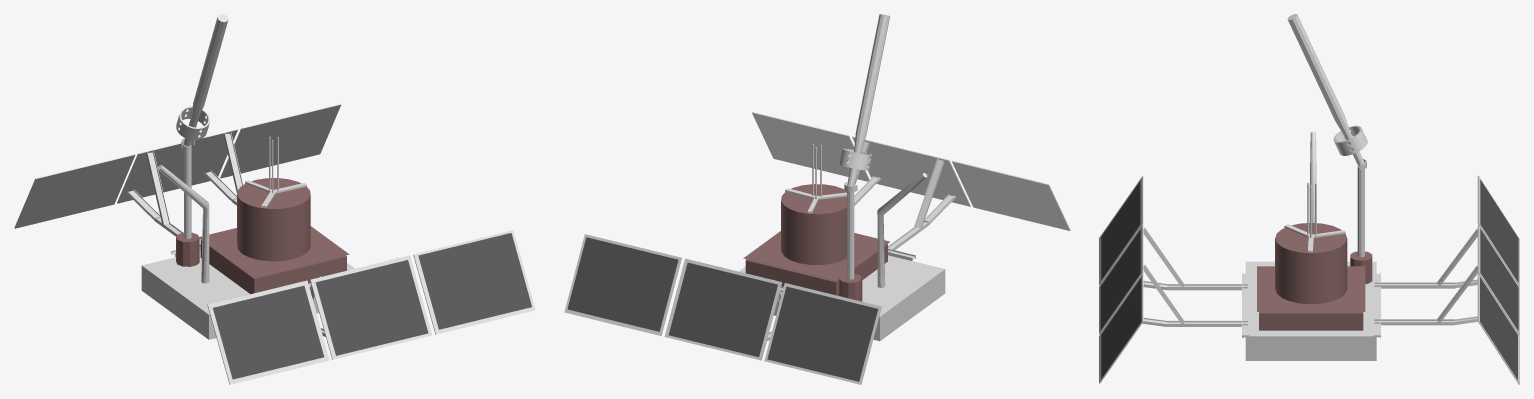
Rendered from NASA SEISMIC Experiment.fbx.
The picture shows the model from 3 angles, left to right: view 1: azimuth 30°, elevation 25°; view 2: azimuth 150°, elevation 25°; view 3: azimuth 270°, elevation 25°; orthographic projection. The views are drawn at different scales.
Parts seen in each view (by area): view 1: SolarPanel1, SolarPanel2, mainCircle, Main_Base, UpperPlateofBase, base, Antena_stick1, SolarPanel1Holder1, Holder, SolarPanel1Holder2, AntenaHolder, Dish (+1 smaller); view 2: SolarPanel2, SolarPanel1, mainCircle, Main_Base, UpperPlateofBase, base, Antena_stick1, SolarPanel2Holder1, Holder, Antena_stick, Dish, AntenaHolder; view 3: SolarPanel1, SolarPanel2, Main_Base, mainCircle, UpperPlateofBase, base, Antena_stick1, SolarPanel2Holder2, SolarPanel1Holder2, SolarPanel2Holder1, SolarPanel1Holder1, Antena_stick (+6 smaller).
Boxes of the visible parts, x1,y1,x2,y2 form: SolarPanel1: [207, 230, 535, 384]; SolarPanel2: [14, 103, 341, 228]; mainCircle: [237, 178, 310, 261]; Main_Base: [141, 251, 354, 339]; UpperPlateofBase: [199, 226, 349, 277]; base: [200, 240, 346, 294]; Antena_stick1: [184, 14, 228, 146]; SolarPanel1Holder1: [127, 151, 200, 247]; Holder: [158, 165, 209, 283]; SolarPanel1Holder2: [204, 132, 243, 205]; AntenaHolder: [176, 232, 199, 266]; Dish: [176, 106, 210, 140]; SolarPanel2: [564, 234, 881, 384]; SolarPanel1: [752, 112, 1070, 230]; mainCircle: [781, 184, 846, 264]; Main_Base: [739, 255, 945, 341]; UpperPlateofBase: [743, 231, 889, 280]; base: [745, 244, 887, 295]; Antena_stick1: [847, 14, 890, 185]; SolarPanel2Holder1: [888, 158, 955, 252]; Holder: [877, 173, 927, 287]; Antena_stick: [847, 191, 854, 279]; Dish: [839, 148, 872, 170]; AntenaHolder: [839, 273, 862, 301]; SolarPanel1: [1099, 176, 1143, 383]; SolarPanel2: [1477, 175, 1519, 384]; Main_Base: [1245, 261, 1376, 360]; mainCircle: [1275, 223, 1347, 304]; UpperPlateofBase: [1257, 266, 1365, 311]; base: [1259, 312, 1363, 330]; Antena_stick1: [1287, 14, 1364, 166]; SolarPanel2Holder2: [1142, 265, 1247, 326]; SolarPanel1Holder2: [1374, 266, 1477, 325]; SolarPanel2Holder1: [1143, 228, 1247, 290]; SolarPanel1Holder1: [1374, 229, 1477, 288]; Antena_stick: [1357, 166, 1364, 257].
Bounding box in the file's own units: 6.23 × 5.79 × 7.63.
